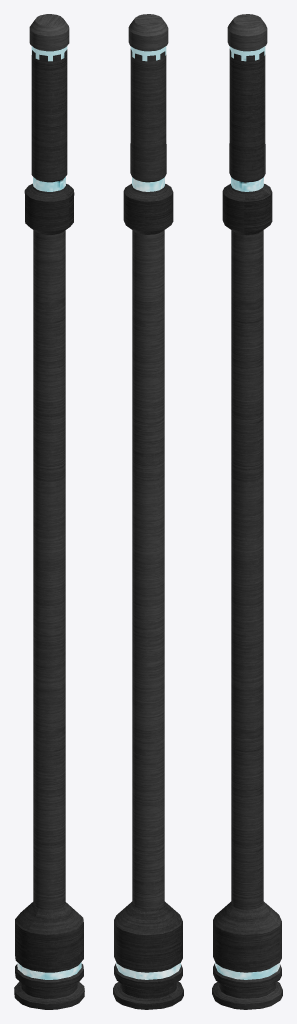
The model's file is propFenceLarge.glb.
3 renders of one model, left to right at view 1: azimuth 30°, elevation 25°; view 2: azimuth 150°, elevation 25°; view 3: azimuth 330°, elevation 25°, orthographic.
Parts seen in each view (by area): view 1: propFenceLarge, PF_Generic_FenceCap.050_M_Base_Black.018_0, PF_Generic_FenceCap.050_M_Emissive_Engineering.017_0, PF_Generic_Fence_Post.004_M_Emissive_Engineering.017_0; view 2: propFenceLarge, PF_Generic_FenceCap.050_M_Base_Black.018_0, PF_Generic_FenceCap.050_M_Emissive_Engineering.017_0, PF_Generic_Fence_Post.004_M_Emissive_Engineering.017_0; view 3: propFenceLarge, PF_Generic_FenceCap.050_M_Base_Black.018_0, PF_Generic_FenceCap.050_M_Emissive_Engineering.017_0, PF_Generic_Fence_Post.004_M_Emissive_Engineering.017_0.
Boxes of the visible parts, x1=… form: propFenceLarge: x1=14, y1=183, x2=84, y2=1009; PF_Generic_FenceCap.050_M_Base_Black.018_0: x1=29, y1=14, x2=69, y2=191; PF_Generic_FenceCap.050_M_Emissive_Engineering.017_0: x1=31, y1=46, x2=67, y2=191; PF_Generic_Fence_Post.004_M_Emissive_Engineering.017_0: x1=17, y1=962, x2=81, y2=979; propFenceLarge: x1=113, y1=183, x2=183, y2=1009; PF_Generic_FenceCap.050_M_Base_Black.018_0: x1=128, y1=14, x2=168, y2=191; PF_Generic_FenceCap.050_M_Emissive_Engineering.017_0: x1=130, y1=46, x2=166, y2=191; PF_Generic_Fence_Post.004_M_Emissive_Engineering.017_0: x1=116, y1=962, x2=180, y2=979; propFenceLarge: x1=212, y1=183, x2=282, y2=1009; PF_Generic_FenceCap.050_M_Base_Black.018_0: x1=227, y1=14, x2=267, y2=191; PF_Generic_FenceCap.050_M_Emissive_Engineering.017_0: x1=229, y1=46, x2=265, y2=191; PF_Generic_Fence_Post.004_M_Emissive_Engineering.017_0: x1=215, y1=962, x2=279, y2=979.
Size of the model in its own units: 0.2974 by 4.56 by 0.2974.
2 materials, 2 textured.
